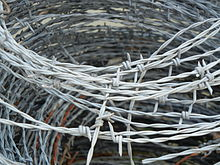Nonrec_Tangler: (3, 3, 214, 156)
